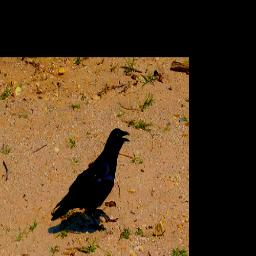Crow: (51, 128, 130, 231)
